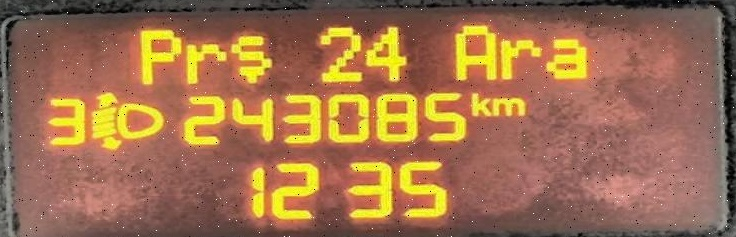0: (327, 89, 369, 143)
1: (242, 159, 265, 222)
2: (269, 160, 318, 221), (318, 23, 364, 86), (183, 91, 223, 148)
3: (339, 157, 393, 222), (42, 89, 84, 150), (280, 91, 320, 145)
4: (227, 92, 275, 145), (368, 22, 409, 83)
5: (394, 159, 452, 221), (423, 88, 463, 148)
8: (375, 89, 417, 145)
X: (136, 25, 178, 88), (454, 22, 497, 83), (232, 31, 273, 85), (544, 32, 588, 81), (497, 34, 541, 81), (185, 38, 225, 86), (493, 94, 527, 119), (468, 88, 491, 119)
